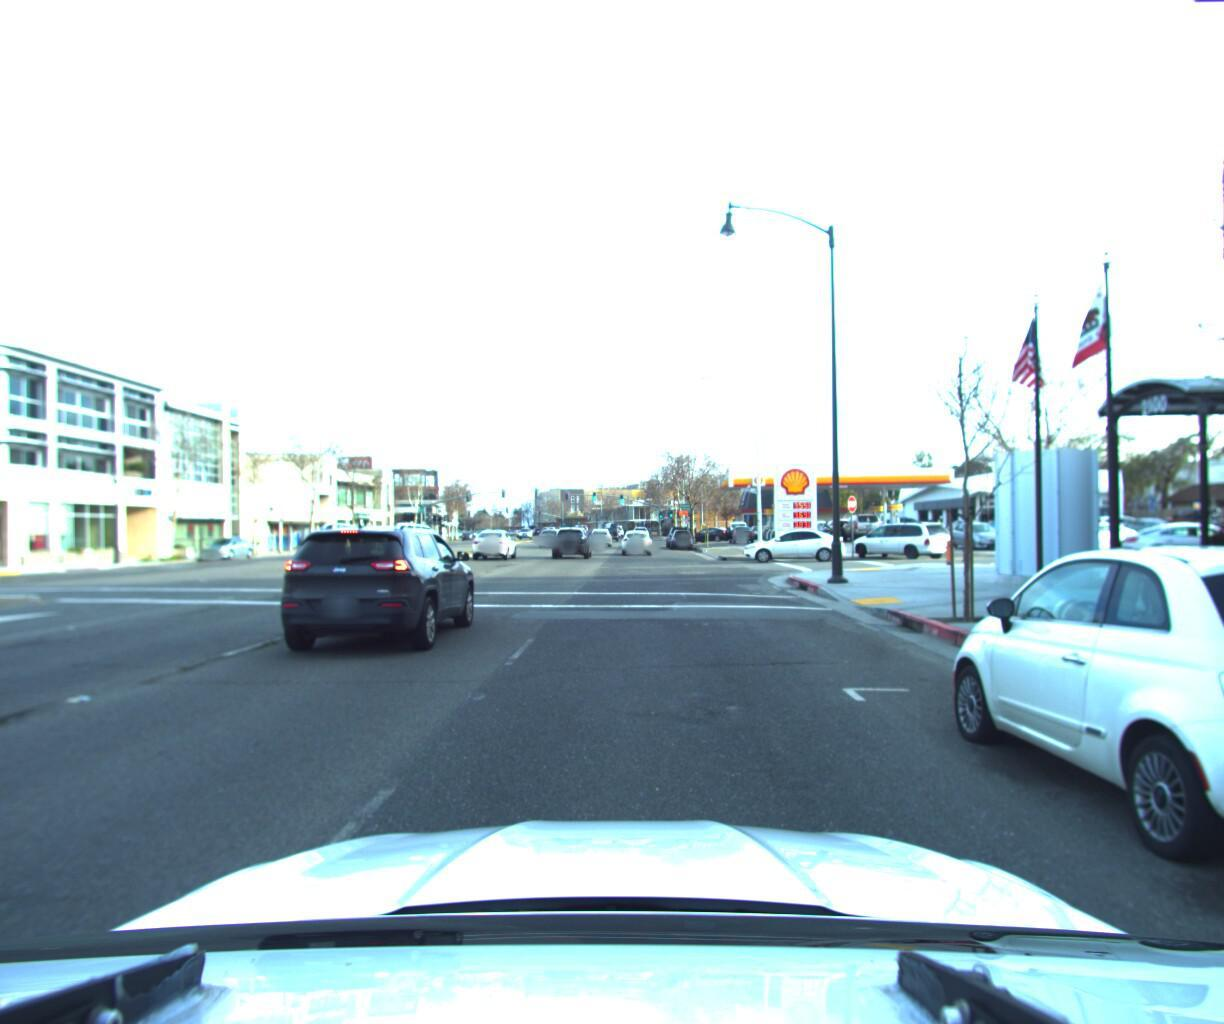car: (926, 530, 1224, 911), (258, 520, 488, 663), (842, 513, 957, 554), (740, 524, 844, 559), (470, 525, 521, 559), (197, 534, 259, 560), (549, 520, 591, 557), (621, 526, 653, 552), (588, 521, 613, 545), (665, 523, 691, 546), (668, 525, 692, 547), (727, 523, 754, 541), (536, 528, 564, 545)
